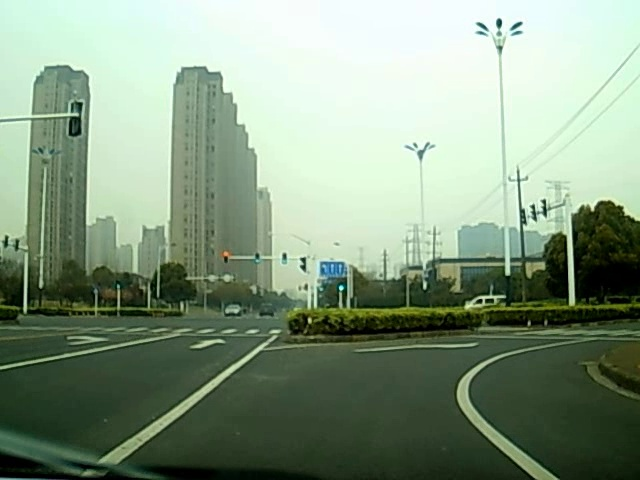Traffic_Light_go: (254, 252, 262, 266), (281, 252, 288, 267), (338, 282, 346, 293)
Traffic_Light_stop: (221, 249, 230, 266)
